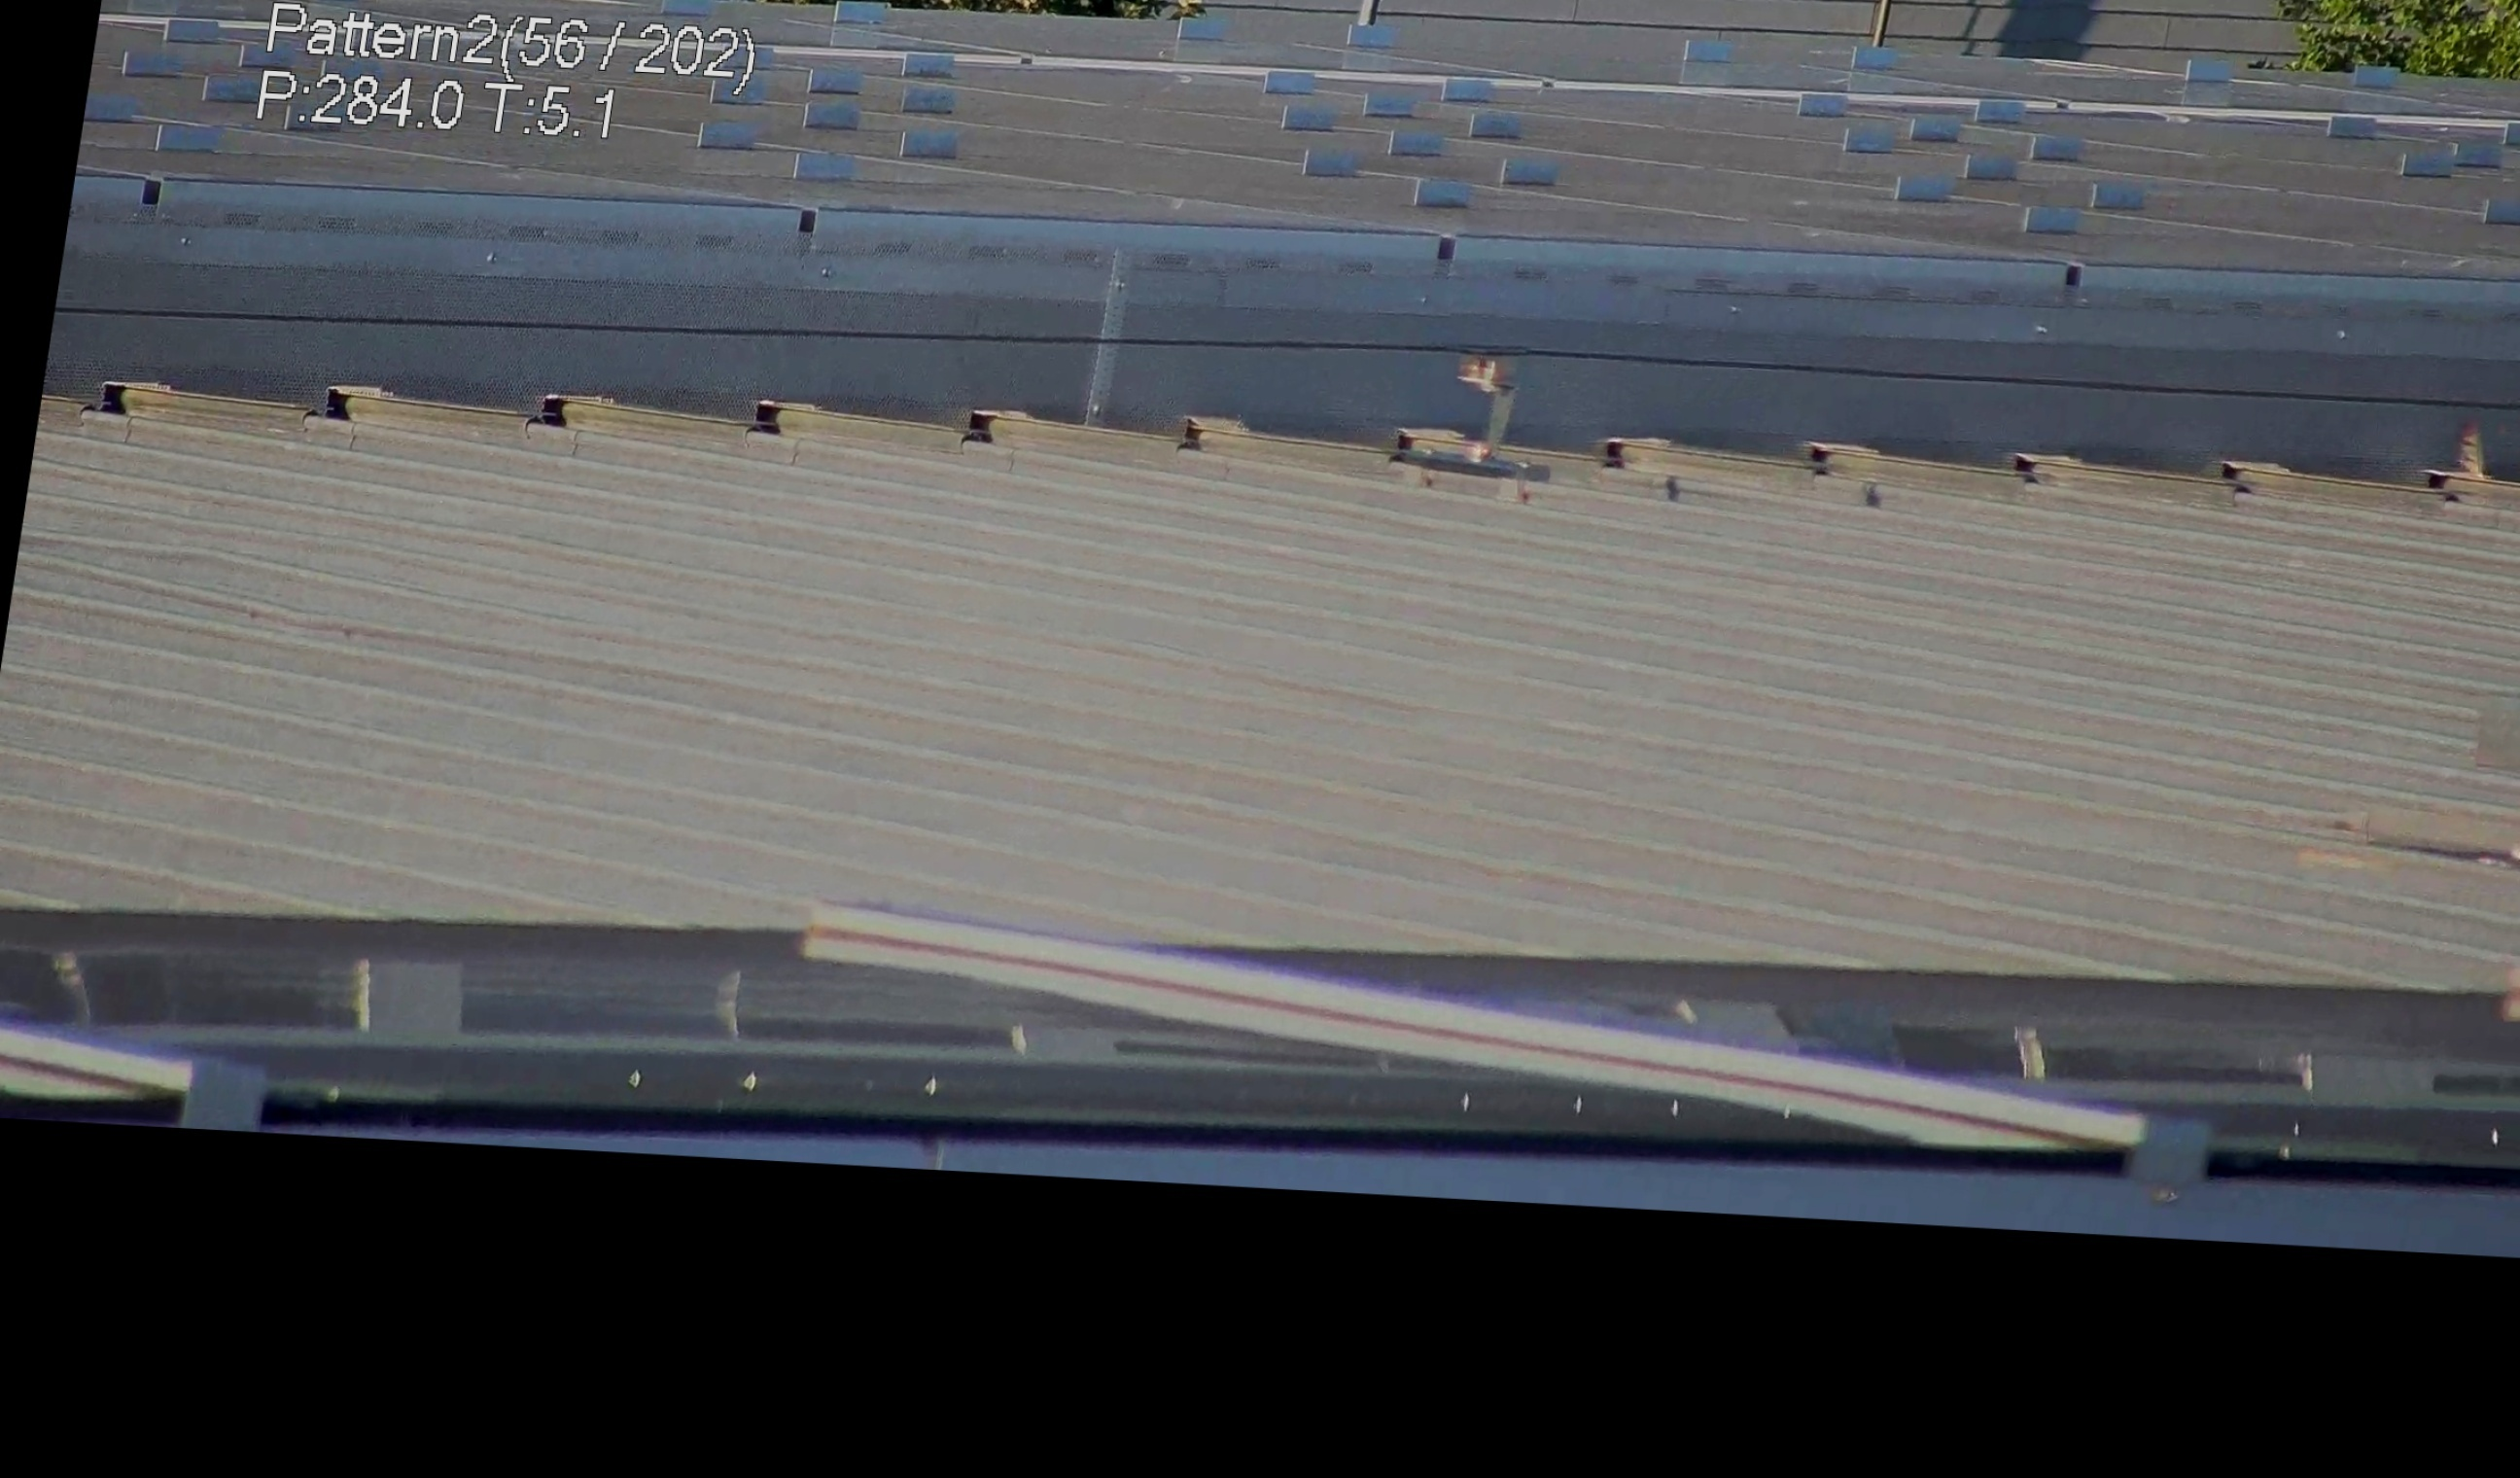Other: (2423, 412, 2518, 503)
